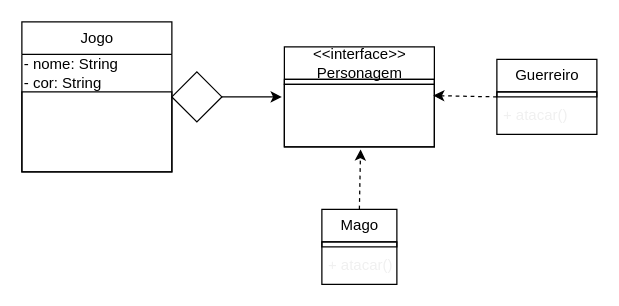
The diagram is 619 pixels wide and 306 high, and some of its shapes have lost their labels. Each missing label, with the centre of its shape:
"+ Forma() + getNome(): String + getCor(): String + imprimir()" goes at point 96,131.
"+ getNome(): String + getCor(): String + imprimir()" goes at point 358,115.
